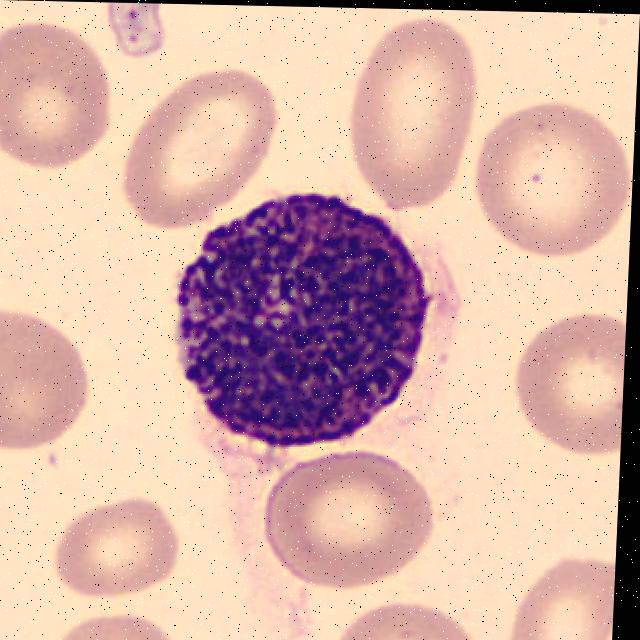basophil: (160, 191, 441, 454)
rbc: (347, 24, 500, 210), (115, 58, 282, 227), (466, 100, 636, 261), (256, 455, 449, 589), (0, 27, 115, 204), (48, 480, 208, 603), (0, 306, 120, 455), (513, 316, 626, 450), (504, 550, 616, 640), (313, 595, 493, 640), (46, 600, 204, 640)
